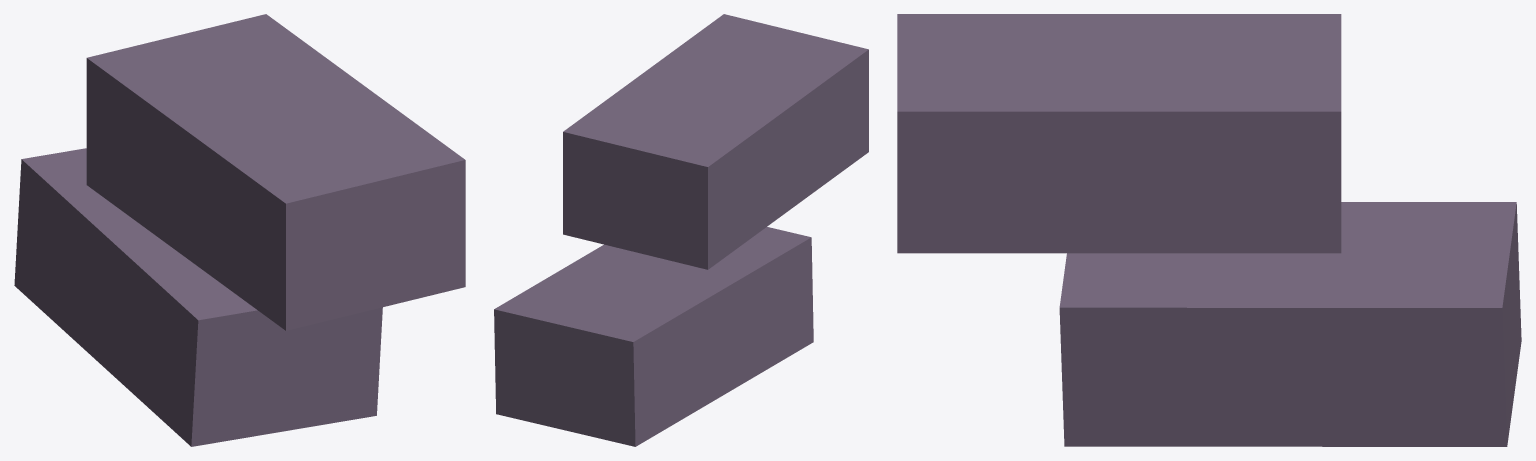
Rendered from bricks array3.fbx.
3 renders of one model, left to right at view 1: azimuth 30°, elevation 25°; view 2: azimuth 150°, elevation 25°; view 3: azimuth 270°, elevation 25°, orthographic. The views are drawn at different scales.
Parts seen in each view (by area): view 1: Cube.040; view 2: Cube.040; view 3: Cube.040.
Part boxes in pixels (bbox=[...]): Cube.040: bbox=[14, 14, 465, 446]; Cube.040: bbox=[494, 14, 868, 446]; Cube.040: bbox=[897, 14, 1521, 446].
Size of the model in its own units: 200 by 286 by 472.
